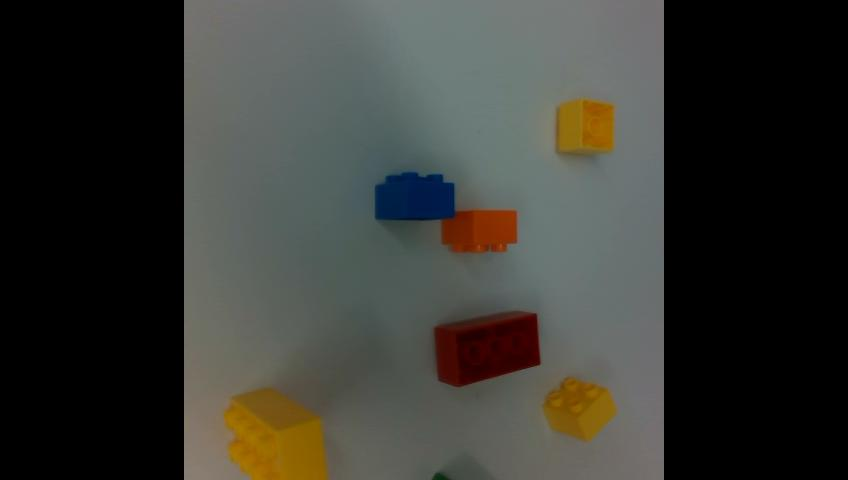2x2_blue: (375, 173, 454, 219)
2x2_orange: (441, 211, 516, 252)
2x2_yellow: (543, 378, 616, 441), (556, 98, 613, 153)
4x2_red: (434, 311, 539, 385)
4x2_yellow: (224, 388, 328, 480)
